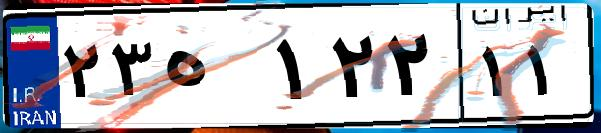1: (270, 28, 330, 110), (475, 38, 525, 113), (525, 38, 570, 115)
2: (385, 28, 445, 110), (330, 28, 385, 110), (57, 26, 110, 100)
3: (110, 28, 158, 98)
ه: (158, 20, 270, 120)
